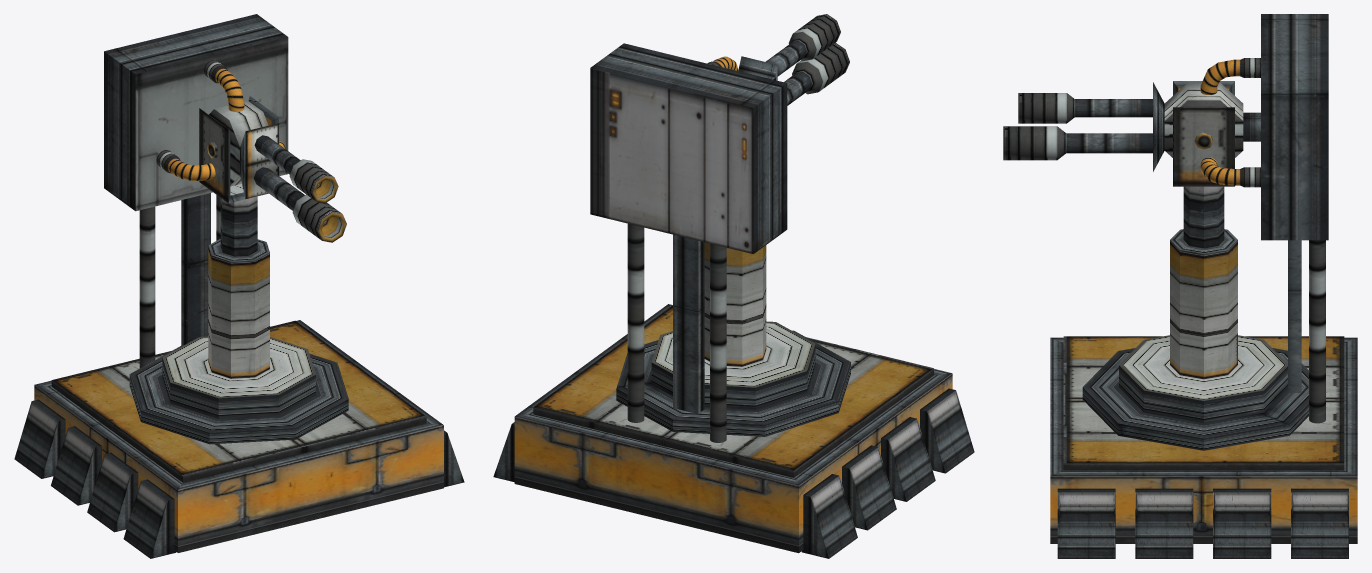
File: torreta2.fbx
3 views of the same model, side by side, from view 1: azimuth 30°, elevation 25°; view 2: azimuth 150°, elevation 25°; view 3: azimuth 270°, elevation 25° (orthographic). The views are drawn at different scales.
Parts seen in each view (by area): view 1: Cylinder, Cylinder.001; view 2: Cylinder, Cylinder.001; view 3: Cylinder, Cylinder.001.
Boxes of the visible parts, bbox=[...] form: Cylinder: bbox=[104, 14, 348, 444]; Cylinder.001: bbox=[14, 320, 464, 558]; Cylinder: bbox=[590, 14, 850, 442]; Cylinder.001: bbox=[493, 304, 974, 558]; Cylinder: bbox=[1003, 14, 1328, 450]; Cylinder.001: bbox=[1050, 336, 1357, 558].
Bounding box in the file's own units: 2.49 × 3 × 2.28.
